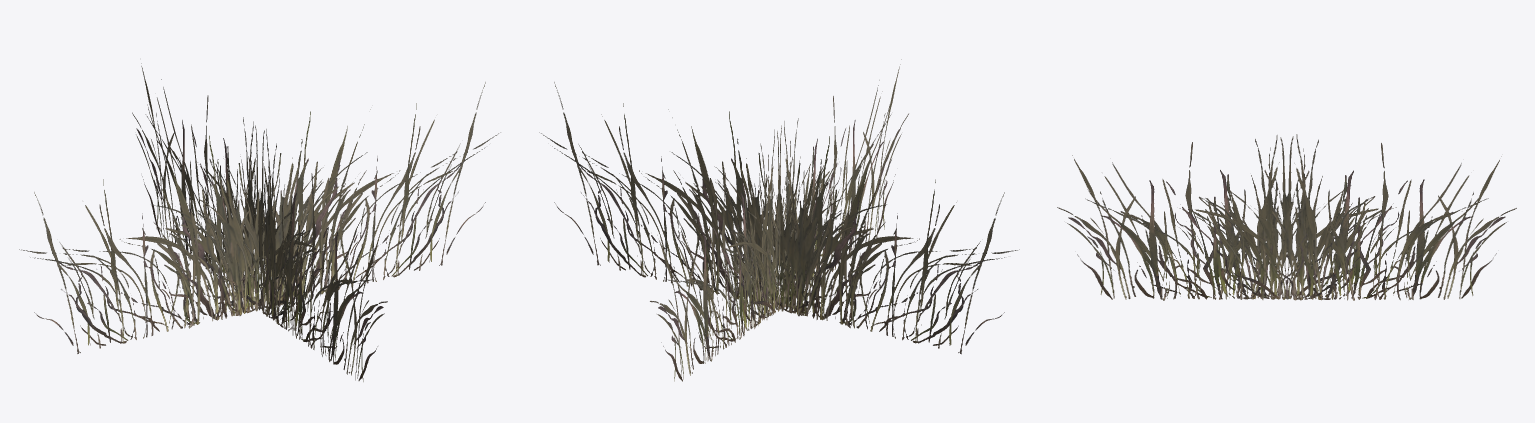
File: grass.glb
3 renders of one model, left to right at view 1: azimuth 30°, elevation 25°; view 2: azimuth 150°, elevation 25°; view 3: azimuth 270°, elevation 25°, orthographic. The views are drawn at different scales.
Visible parts, largest first — view 1: Grass; view 2: Grass; view 3: Grass.
Part boxes in pixels (x1=…): Grass: x1=19, y1=63, x2=500, y2=381; Grass: x1=539, y1=59, x2=1019, y2=381; Grass: x1=1057, y1=134, x2=1516, y2=300.
Bounding box in the file's own units: 0.9275 × 0.3665 × 0.8575.
Materials: 1 (1 with a texture image).
